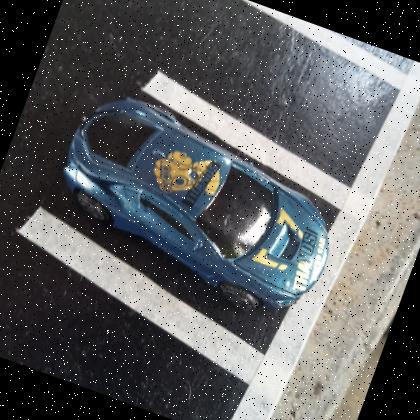Car: (62, 99, 329, 311)
